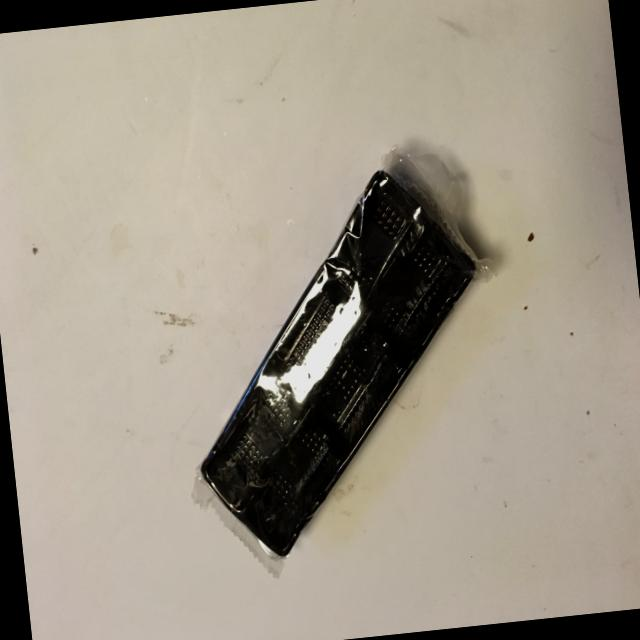Plastic: (148, 105, 527, 607)
